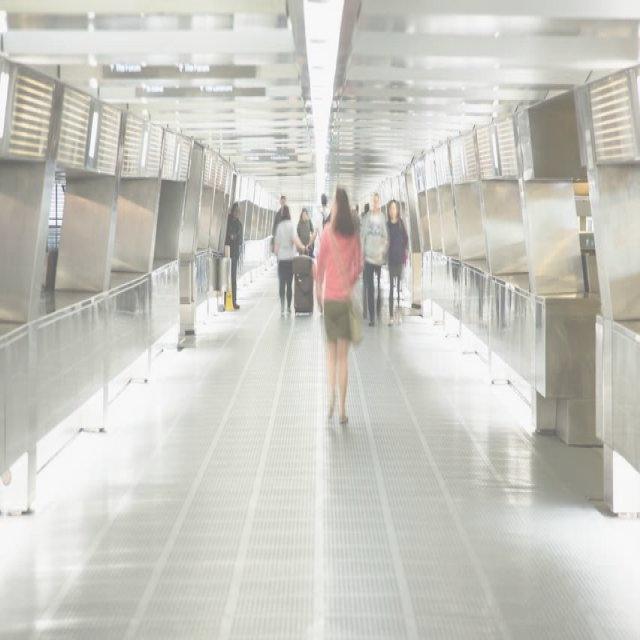pessoa: (313, 185, 367, 431), (358, 190, 390, 328), (272, 204, 306, 324), (382, 197, 409, 328), (222, 200, 245, 311), (359, 201, 372, 320), (306, 192, 330, 255), (272, 194, 292, 238), (296, 206, 315, 248), (354, 206, 360, 270)
